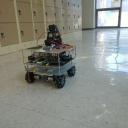cart: (21, 45, 77, 89)
